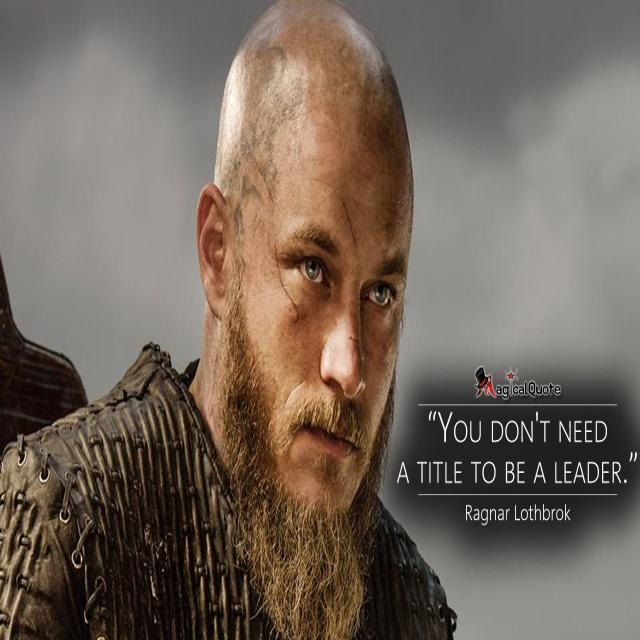no_helmet: (207, 0, 424, 283)
